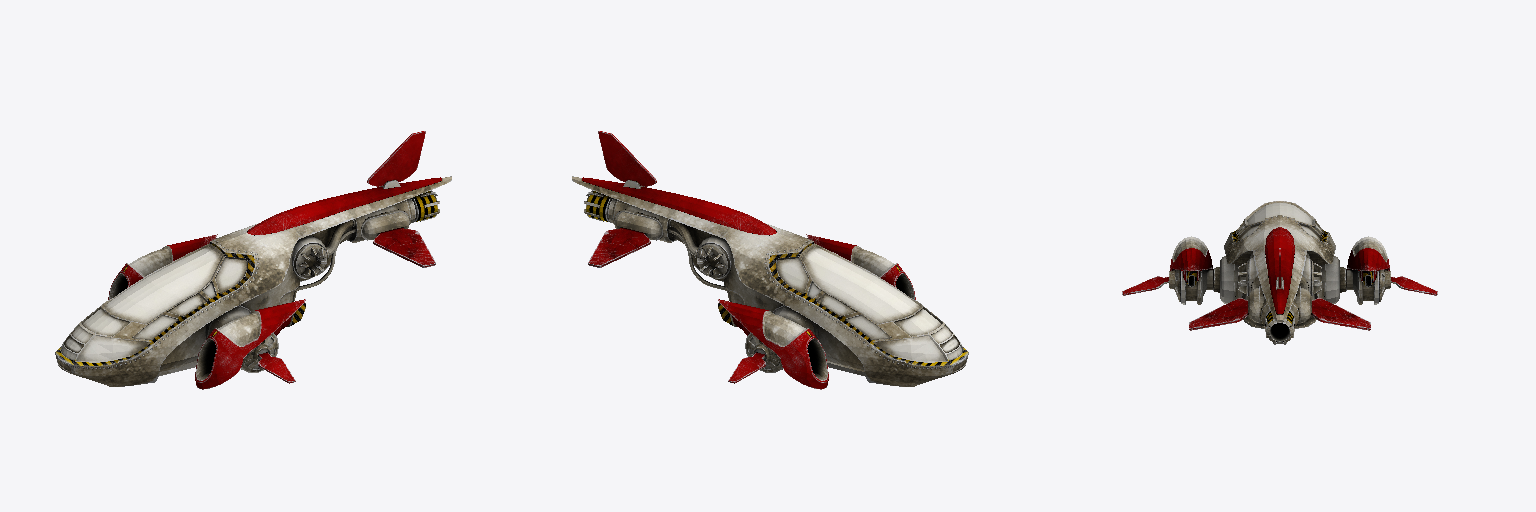
3 renders of one model, left to right at view 1: azimuth 30°, elevation 25°; view 2: azimuth 150°, elevation 25°; view 3: azimuth 270°, elevation 25°, orthographic.
Visible parts, largest first — view 1: Mesh group; view 2: Mesh group; view 3: Mesh group.
Boxes of the visible parts, <box> form: Mesh group: <box>55,131,451,389</box>; Mesh group: <box>572,131,968,389</box>; Mesh group: <box>1122,201,1437,344</box>.
Size of the model in its own units: 0.8613 by 0.3519 by 0.5999.
1 materials, 1 textured.